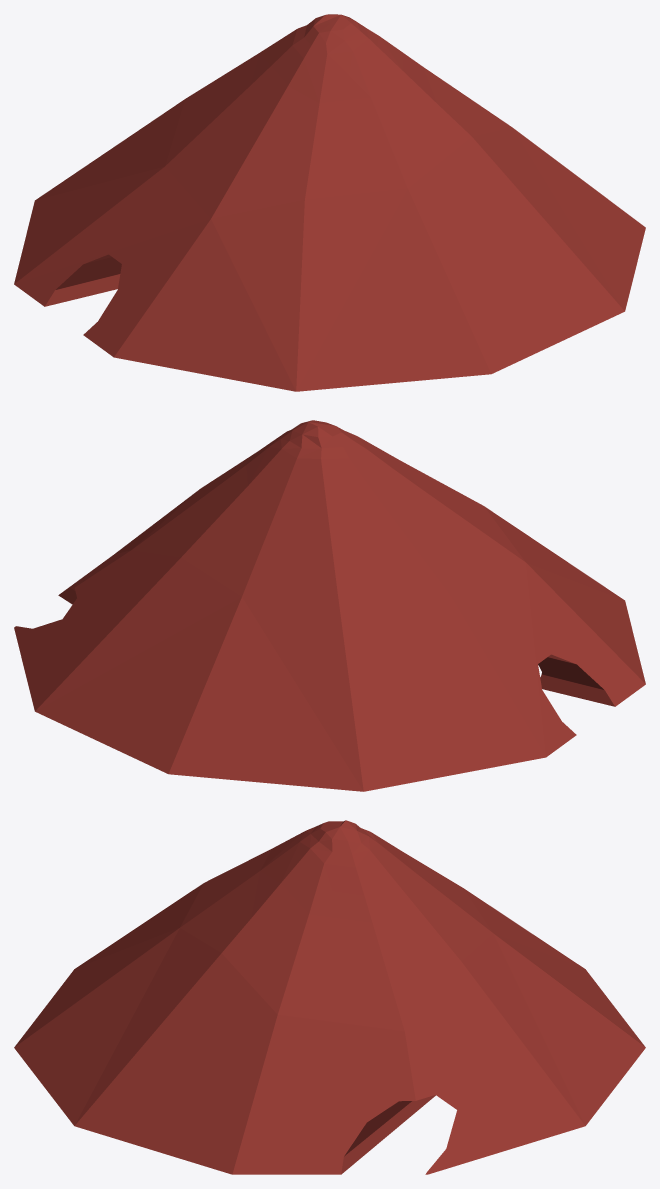
The model's file is mHole.fbx.
3 renders of one model, top to bottom at view 1: azimuth 30°, elevation 25°; view 2: azimuth 150°, elevation 25°; view 3: azimuth 270°, elevation 25°, orthographic. The views are drawn at different scales.
Visible parts, largest first — view 1: mHole; view 2: mHole; view 3: mHole.
Part boxes in pixels (x1,y1,x2,y2): mHole: (14, 14, 645, 391); mHole: (14, 420, 645, 791); mHole: (14, 820, 645, 1174).
Bounding box in the file's own units: 190 × 80.06 × 200.
